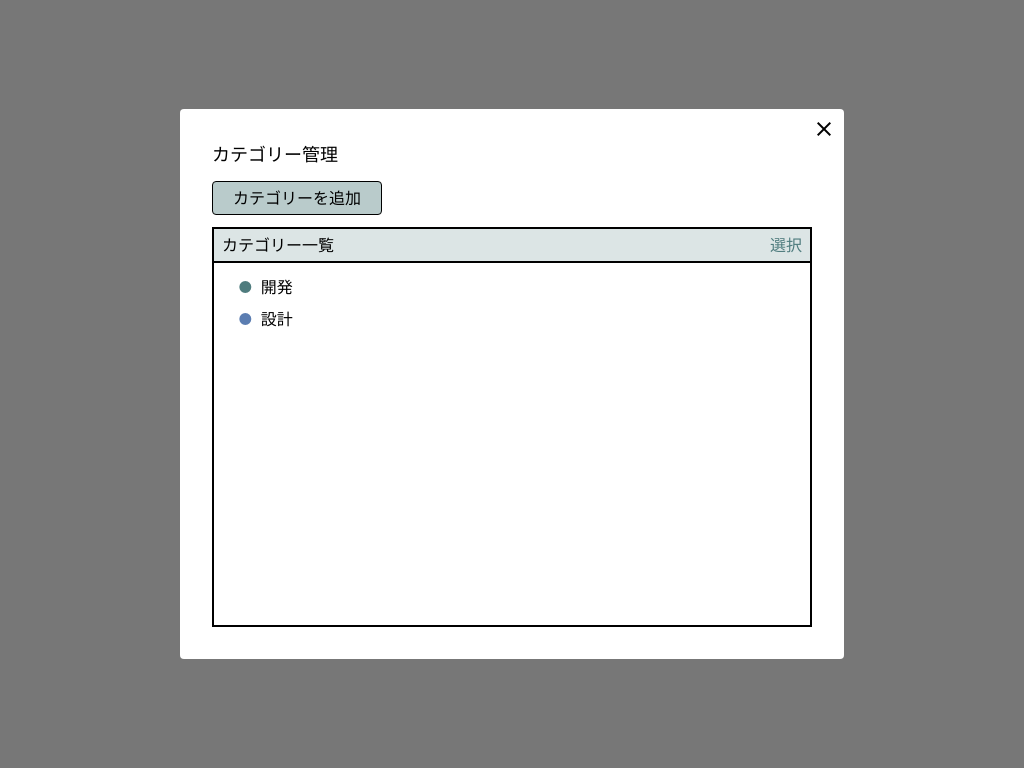
Test: CategoryModal（選択して削除） › 一覧の外側をクリックすると選択モードが解除される
This screenshot has width=1024, height=768.
Click the button "選択" at {"x": 786, "y": 245}, box [770,233,802,257]
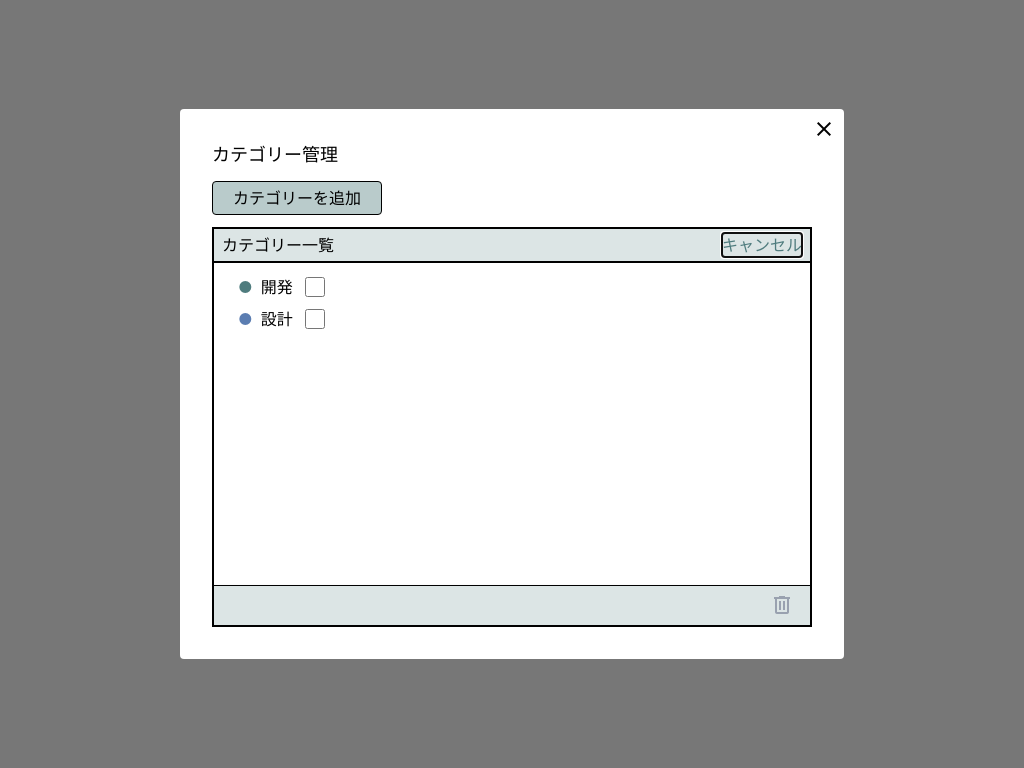
Result: the 1st checkbox is shown at [305,277,325,297]
# 一覧（rootRef）の外＝モーダルの見出しをクリックする
Click the text "カテゴリー管理" at {"x": 275, "y": 154}, box [212,144,338,165]
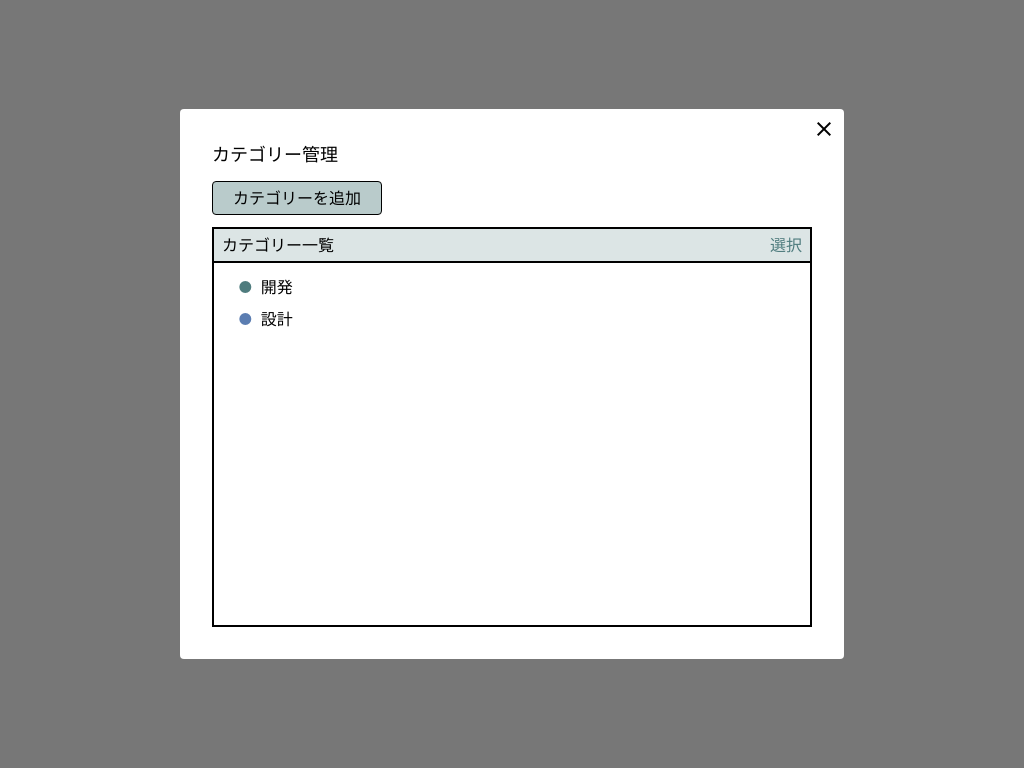
Result: no checkboxes are shown
